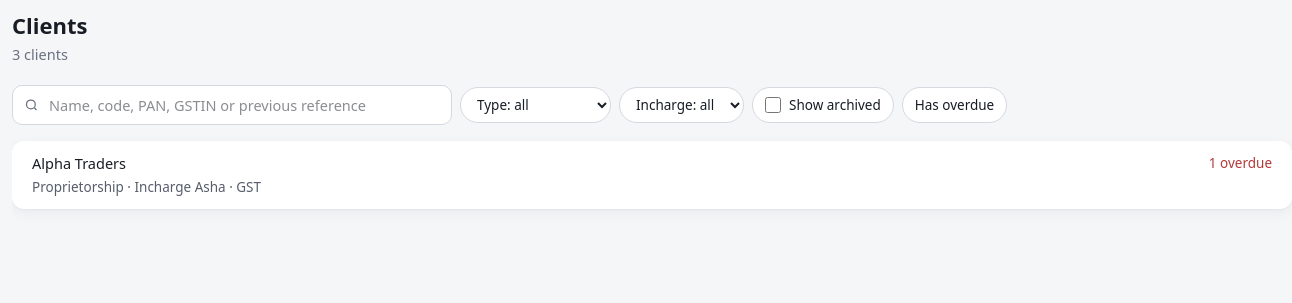
Test: Has overdue chip (AC-15) › is a toggle button; pressing it searches with hasOverdue and leaves the URL alone
Click the button "Has overdue": x=954, y=105 [902,87,1007,123]
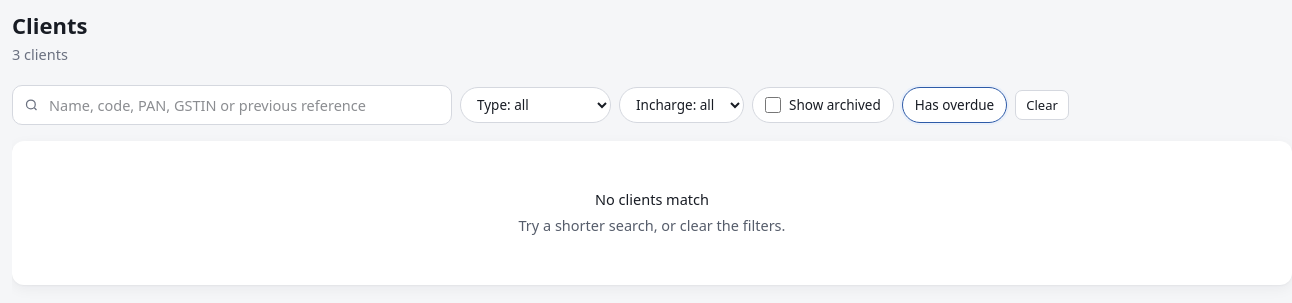
Now the button "Clear" is shown, box [1015,90,1069,120]
